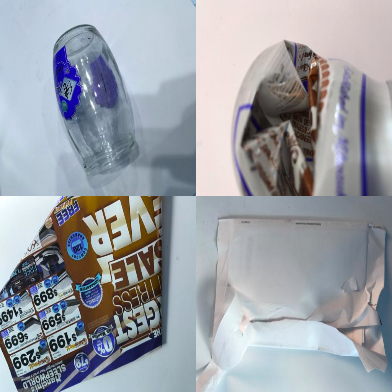glass: (52, 25, 141, 174)
metal: (230, 39, 391, 194)
paper: (194, 218, 386, 390), (1, 196, 164, 391)
